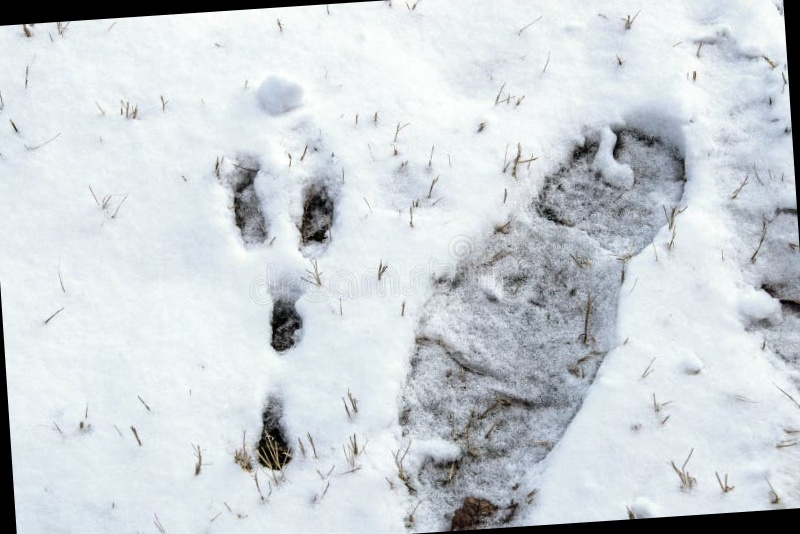rabbit: (203, 105, 374, 434)
